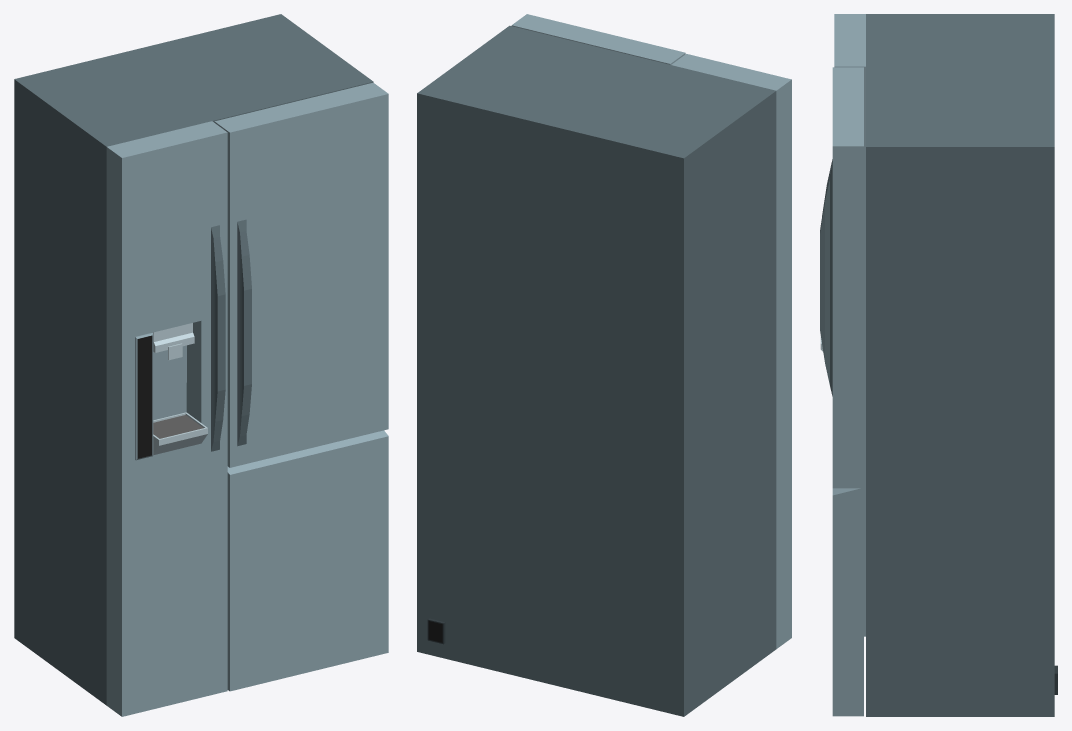
The model's file is KA-F1000_FridgeSBS_V1.glb.
The picture shows the model from 3 angles, left to right: view 1: azimuth 30°, elevation 25°; view 2: azimuth 150°, elevation 25°; view 3: azimuth 270°, elevation 25°; orthographic projection. The views are drawn at different scales.
Visible parts, largest first — view 1: KA-F1000_FridgeSBS_V1, KA-F1000_FridgeSBS_V1_FrezzerDoor, KA-F1000_FridgeSBS_V1_DoorInDoor, KA-F1000_FridgeSBS_V1_Door; view 2: KA-F1000_FridgeSBS_V1, KA-F1000_FridgeSBS_V1_FrezzerDoor, KA-F1000_FridgeSBS_V1_DoorInDoor; view 3: KA-F1000_FridgeSBS_V1, KA-F1000_FridgeSBS_V1_DoorInDoor, KA-F1000_FridgeSBS_V1_Door, KA-F1000_FridgeSBS_V1_FrezzerDoor.
Boxes of the visible parts, x1,y1,x2,y2 form: KA-F1000_FridgeSBS_V1: [14, 14, 373, 705]; KA-F1000_FridgeSBS_V1_FrezzerDoor: [106, 121, 227, 716]; KA-F1000_FridgeSBS_V1_DoorInDoor: [216, 84, 388, 467]; KA-F1000_FridgeSBS_V1_Door: [214, 82, 388, 691]; KA-F1000_FridgeSBS_V1: [417, 25, 776, 716]; KA-F1000_FridgeSBS_V1_FrezzerDoor: [671, 54, 791, 648]; KA-F1000_FridgeSBS_V1_DoorInDoor: [513, 14, 685, 63]; KA-F1000_FridgeSBS_V1: [866, 14, 1057, 716]; KA-F1000_FridgeSBS_V1_DoorInDoor: [820, 67, 860, 488]; KA-F1000_FridgeSBS_V1_Door: [832, 67, 863, 716]; KA-F1000_FridgeSBS_V1_FrezzerDoor: [820, 14, 865, 636].
Bounding box in the file's own units: 1 × 2 × 0.7561.
Materials: 2 (2 with a texture image).
